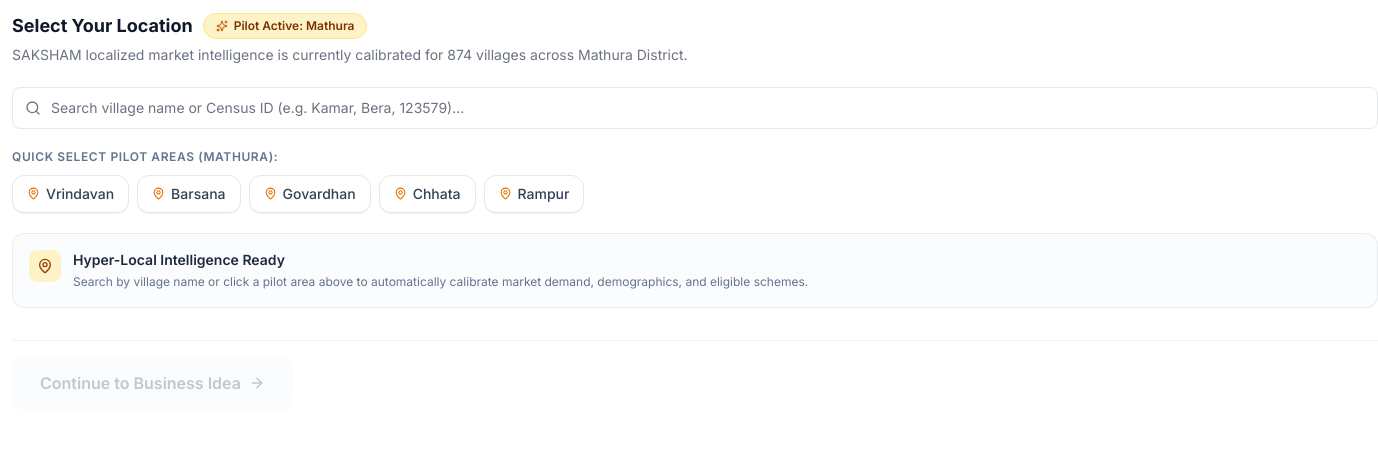
Scenario: StepLocation — search and selection › displays error alert when location search API fails
Type "error" into the dropdown.
click(708, 108); type("error")  # box 51,98 -> 1365,118
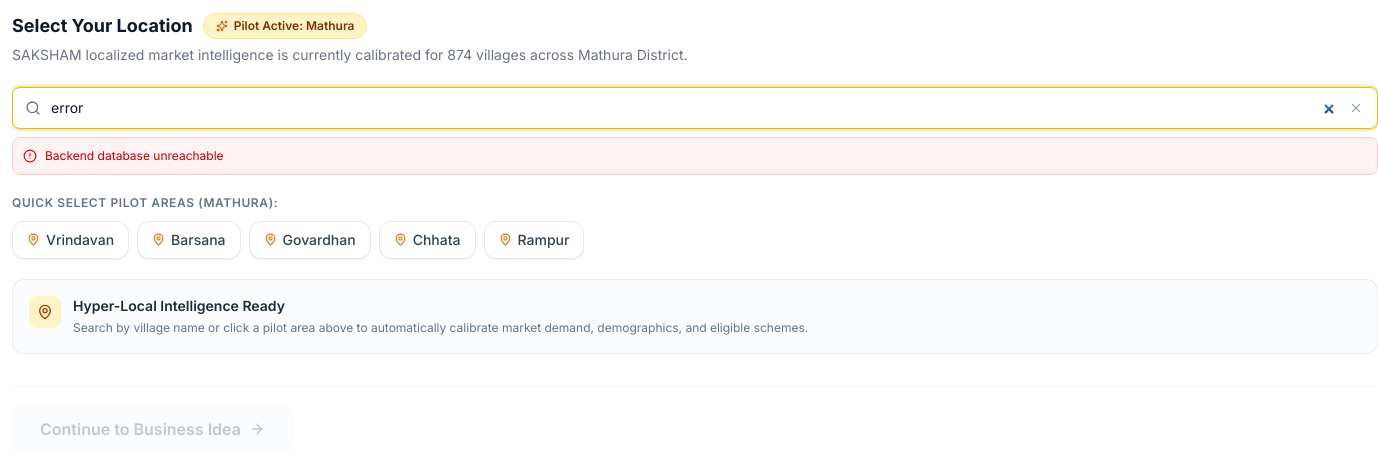
Result: the text "Backend database unreachable" is shown at 45,148 -> 224,164
